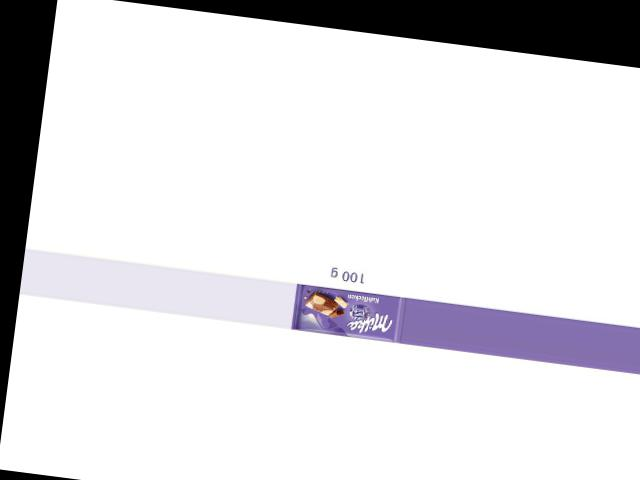chocolate: (289, 276, 407, 344)
